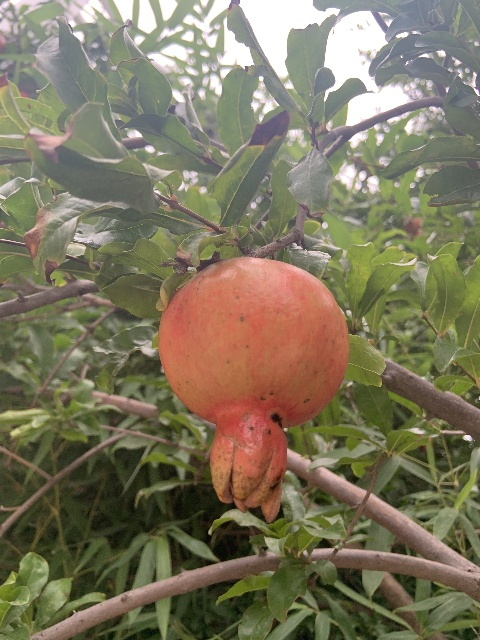ripe: (156, 255, 349, 522)
